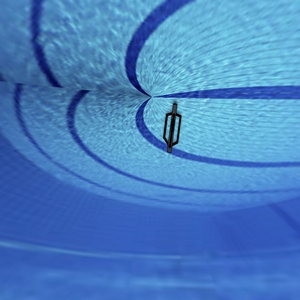submarine: (150, 86, 193, 163)
